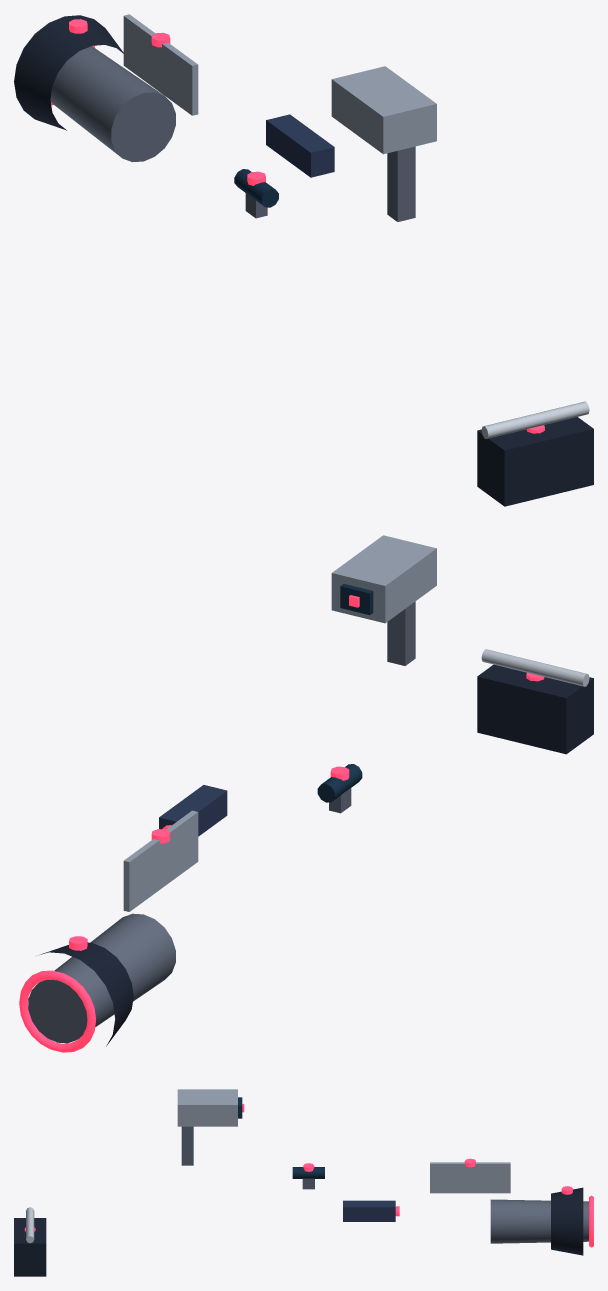
Rendered from tower_filament_optics_s8.glb.
3 renders of one model, top to bottom at view 1: azimuth 30°, elevation 25°; view 2: azimuth 150°, elevation 25°; view 3: azimuth 270°, elevation 25°, orthographic. The views are drawn at different scales.
Parts seen in each view (by area): view 1: filament_tube_ext, filament_counterweight, filament_optics_head, filament_lens_hood, filament_stab_fin, filament_rangefinder, filament_optics_mast, filament_counterweight_bar, filament_sight_glass; view 2: filament_tube_ext, filament_counterweight, filament_optics_head, filament_stab_fin, filament_lens_hood, filament_tube_ext_ring, filament_rangefinder, filament_optics_mast, filament_counterweight_bar, filament_sight_glass, filament_optics_lens; view 3: filament_tube_ext, filament_stab_fin, filament_optics_head, filament_lens_hood, filament_counterweight, filament_rangefinder, filament_optics_mast, filament_sight_glass, filament_counterweight_bar.
Boxes of the visible parts, x1,y1,x2,y2 form: filament_tube_ext: (50, 46, 175, 162); filament_counterweight: (477, 417, 593, 506); filament_optics_head: (331, 66, 436, 154); filament_lens_hood: (14, 15, 123, 130); filament_stab_fin: (123, 14, 198, 115); filament_rangefinder: (266, 114, 334, 177); filament_optics_mast: (387, 146, 415, 221); filament_counterweight_bar: (481, 401, 589, 438); filament_sight_glass: (234, 169, 278, 207); filament_tube_ext: (28, 913, 175, 1043); filament_counterweight: (477, 664, 593, 754); filament_optics_head: (331, 535, 436, 623); filament_stab_fin: (123, 810, 198, 911); filament_lens_hood: (40, 942, 133, 1046); filament_tube_ext_ring: (19, 970, 95, 1052); filament_rangefinder: (159, 785, 227, 836); filament_optics_mast: (387, 601, 415, 665); filament_counterweight_bar: (481, 649, 589, 686); filament_sight_glass: (317, 764, 362, 802); filament_optics_lens: (340, 583, 373, 614); filament_tube_ext: (490, 1199, 588, 1243); filament_stab_fin: (430, 1162, 510, 1193); filament_optics_head: (177, 1089, 237, 1126); filament_lens_hood: (551, 1187, 583, 1255); filament_counterweight: (14, 1218, 46, 1276); filament_rangefinder: (343, 1200, 395, 1221); filament_optics_mast: (181, 1126, 193, 1165); filament_sight_glass: (292, 1167, 324, 1178); filament_counterweight_bar: (26, 1207, 34, 1243).
Bounding box in the file's own units: 0.39 × 0.91 × 2.87.
